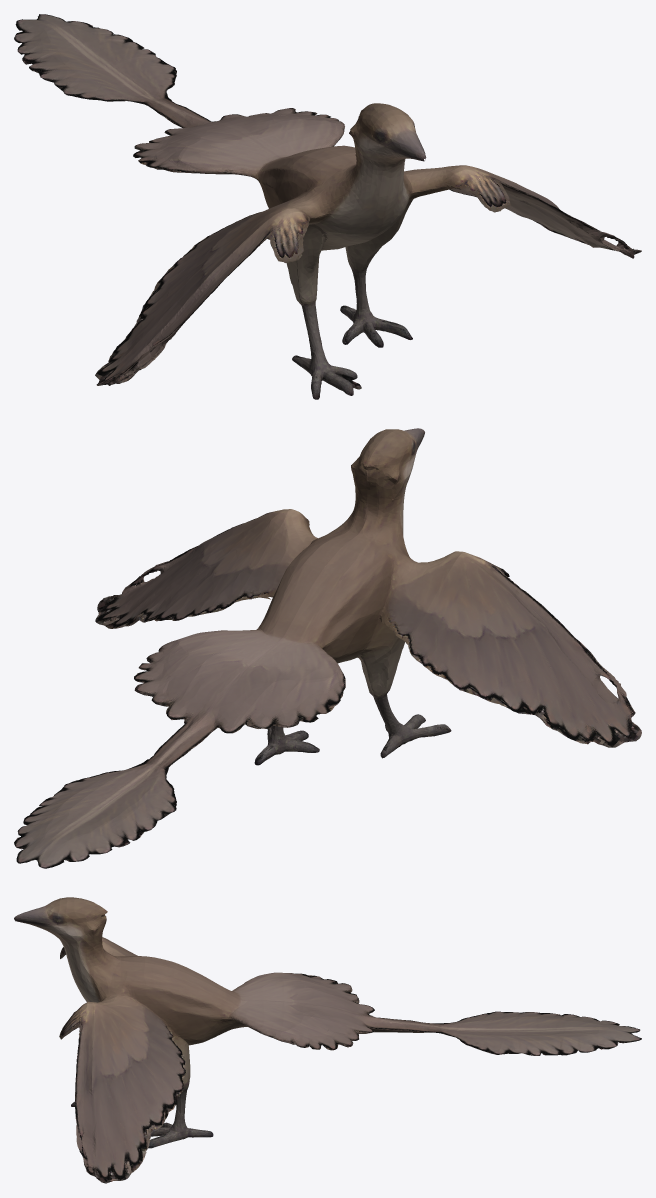
3 renders of one model, top to bottom at view 1: azimuth 30°, elevation 25°; view 2: azimuth 150°, elevation 25°; view 3: azimuth 270°, elevation 25°, orthographic. The views are drawn at different scales.
Visible parts, largest first — view 1: world; view 2: world; view 3: world.
Boxes of the visible parts, bbox=[...] form: world: bbox=[14, 14, 641, 399]; world: bbox=[14, 428, 641, 868]; world: bbox=[14, 897, 641, 1183].
Bounding box in the file's own units: 0.7917 × 0.3945 × 0.9964.
1 material, 1 textured.
